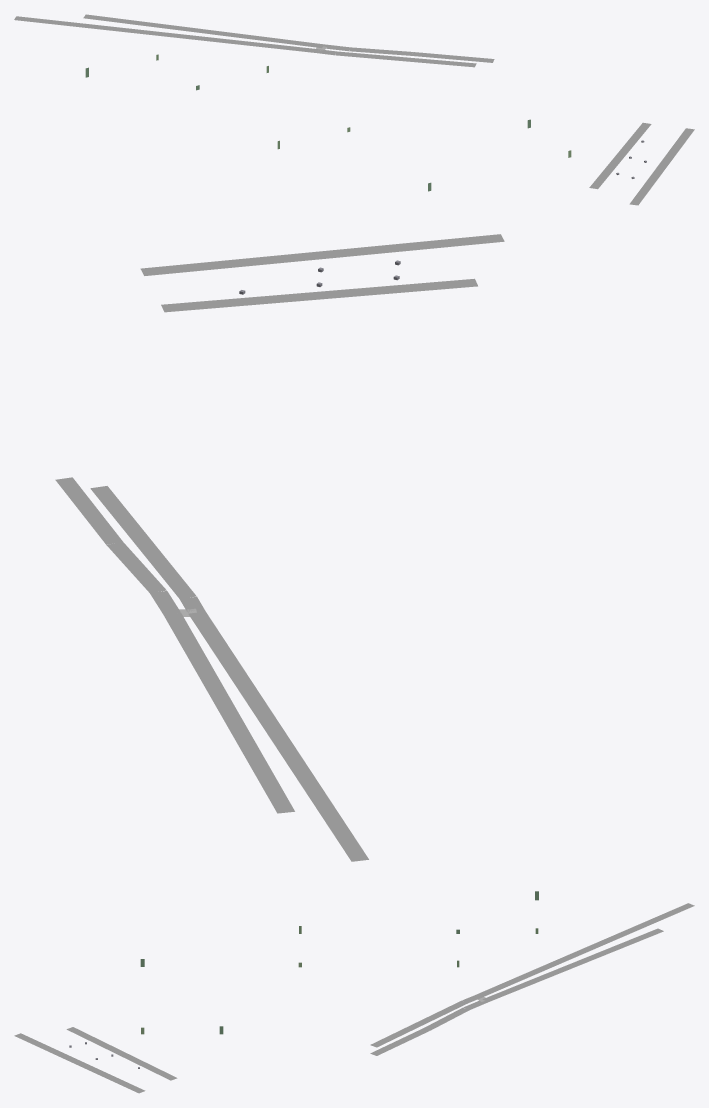
3 renders of one model, top to bottom at view 1: azimuth 30°, elevation 25°; view 2: azimuth 150°, elevation 25°; view 3: azimuth 270°, elevation 25°, orthographic. The views are drawn at different scales.
Size of the model in its own units: 347 by 8.62 by 518.
